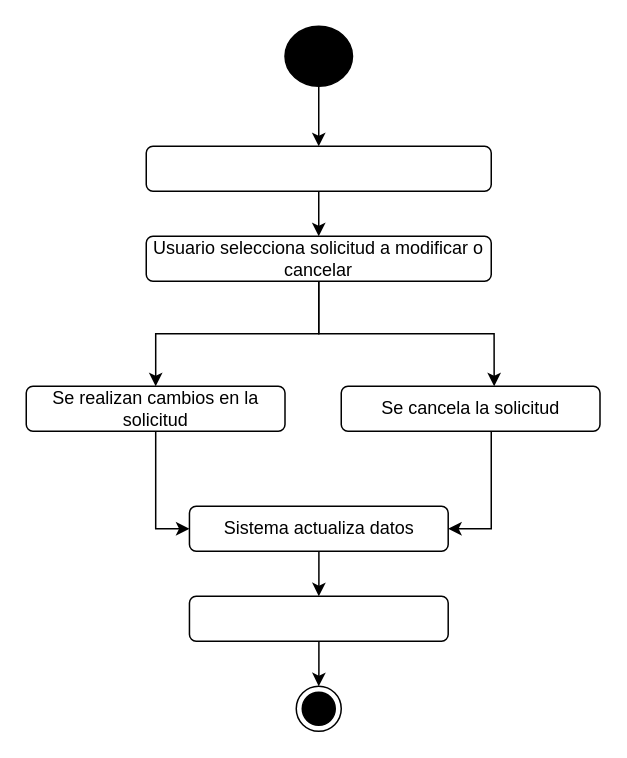
This 627x758 diagram has some shape labels left out. Each missing label, with the centre of its shape:
"Sistema registra la acción seleccionada" belongs at [318,618].
"Usuario accede historial de solicitudes" belongs at [318,168].
